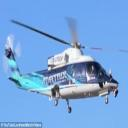helicopter: (7, 20, 127, 113)
